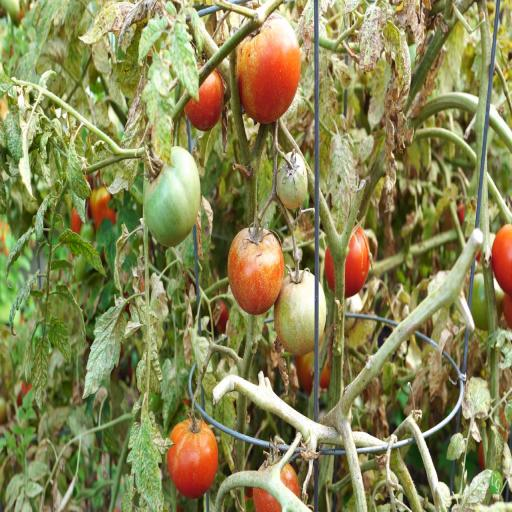Spider Mites: (105, 77, 145, 198), (80, 304, 127, 404), (126, 408, 164, 512), (140, 75, 175, 171), (328, 134, 355, 236), (384, 18, 412, 115), (168, 21, 201, 103), (76, 1, 134, 46), (59, 227, 108, 280), (9, 267, 40, 337), (55, 283, 86, 348), (66, 131, 94, 201), (358, 1, 384, 75), (137, 10, 168, 68), (6, 228, 34, 290), (460, 372, 492, 421), (32, 336, 49, 413), (48, 314, 72, 366), (24, 318, 40, 386), (5, 108, 23, 166), (466, 466, 492, 504), (34, 190, 52, 244), (446, 430, 466, 462)
